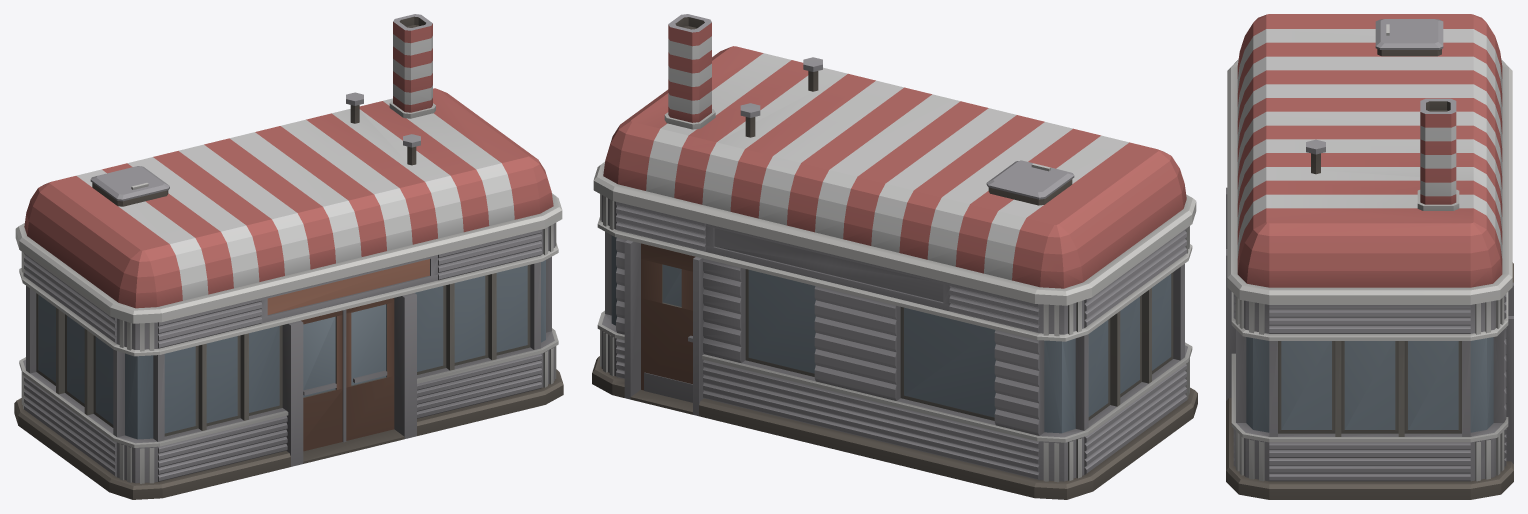
The model's file is diner.glb.
3 renders of one model, left to right at view 1: azimuth 30°, elevation 25°; view 2: azimuth 150°, elevation 25°; view 3: azimuth 270°, elevation 25°, orthographic. The views are drawn at different scales.
Visible parts, largest first — view 1: diner; view 2: diner; view 3: diner.
Boxes of the visible parts, <box> form: diner: <box>14,14,563,499</box>; diner: <box>592,14,1197,499</box>; diner: <box>1226,14,1513,499</box>.
Size of the model in its own units: 8 by 5.45 by 4.
